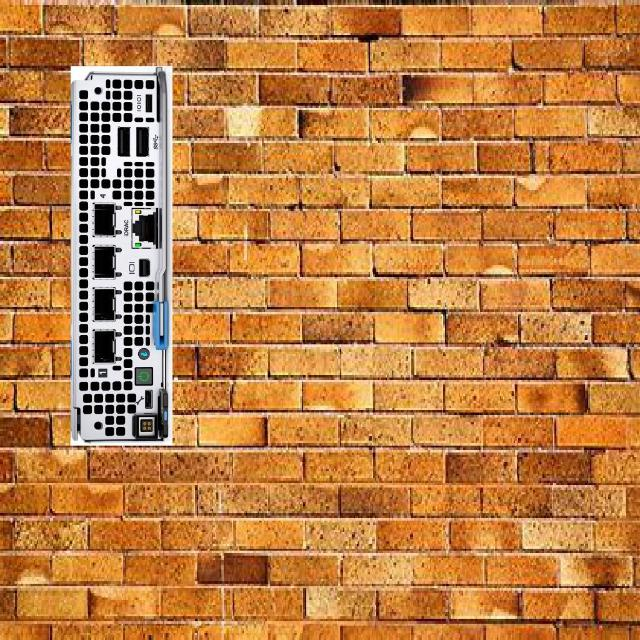Server: (70, 66, 172, 444)
